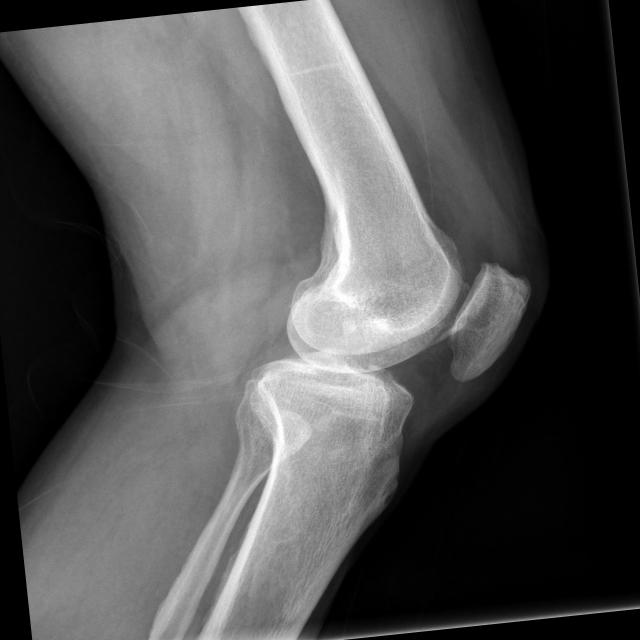Knee: (221, 235, 547, 445)
